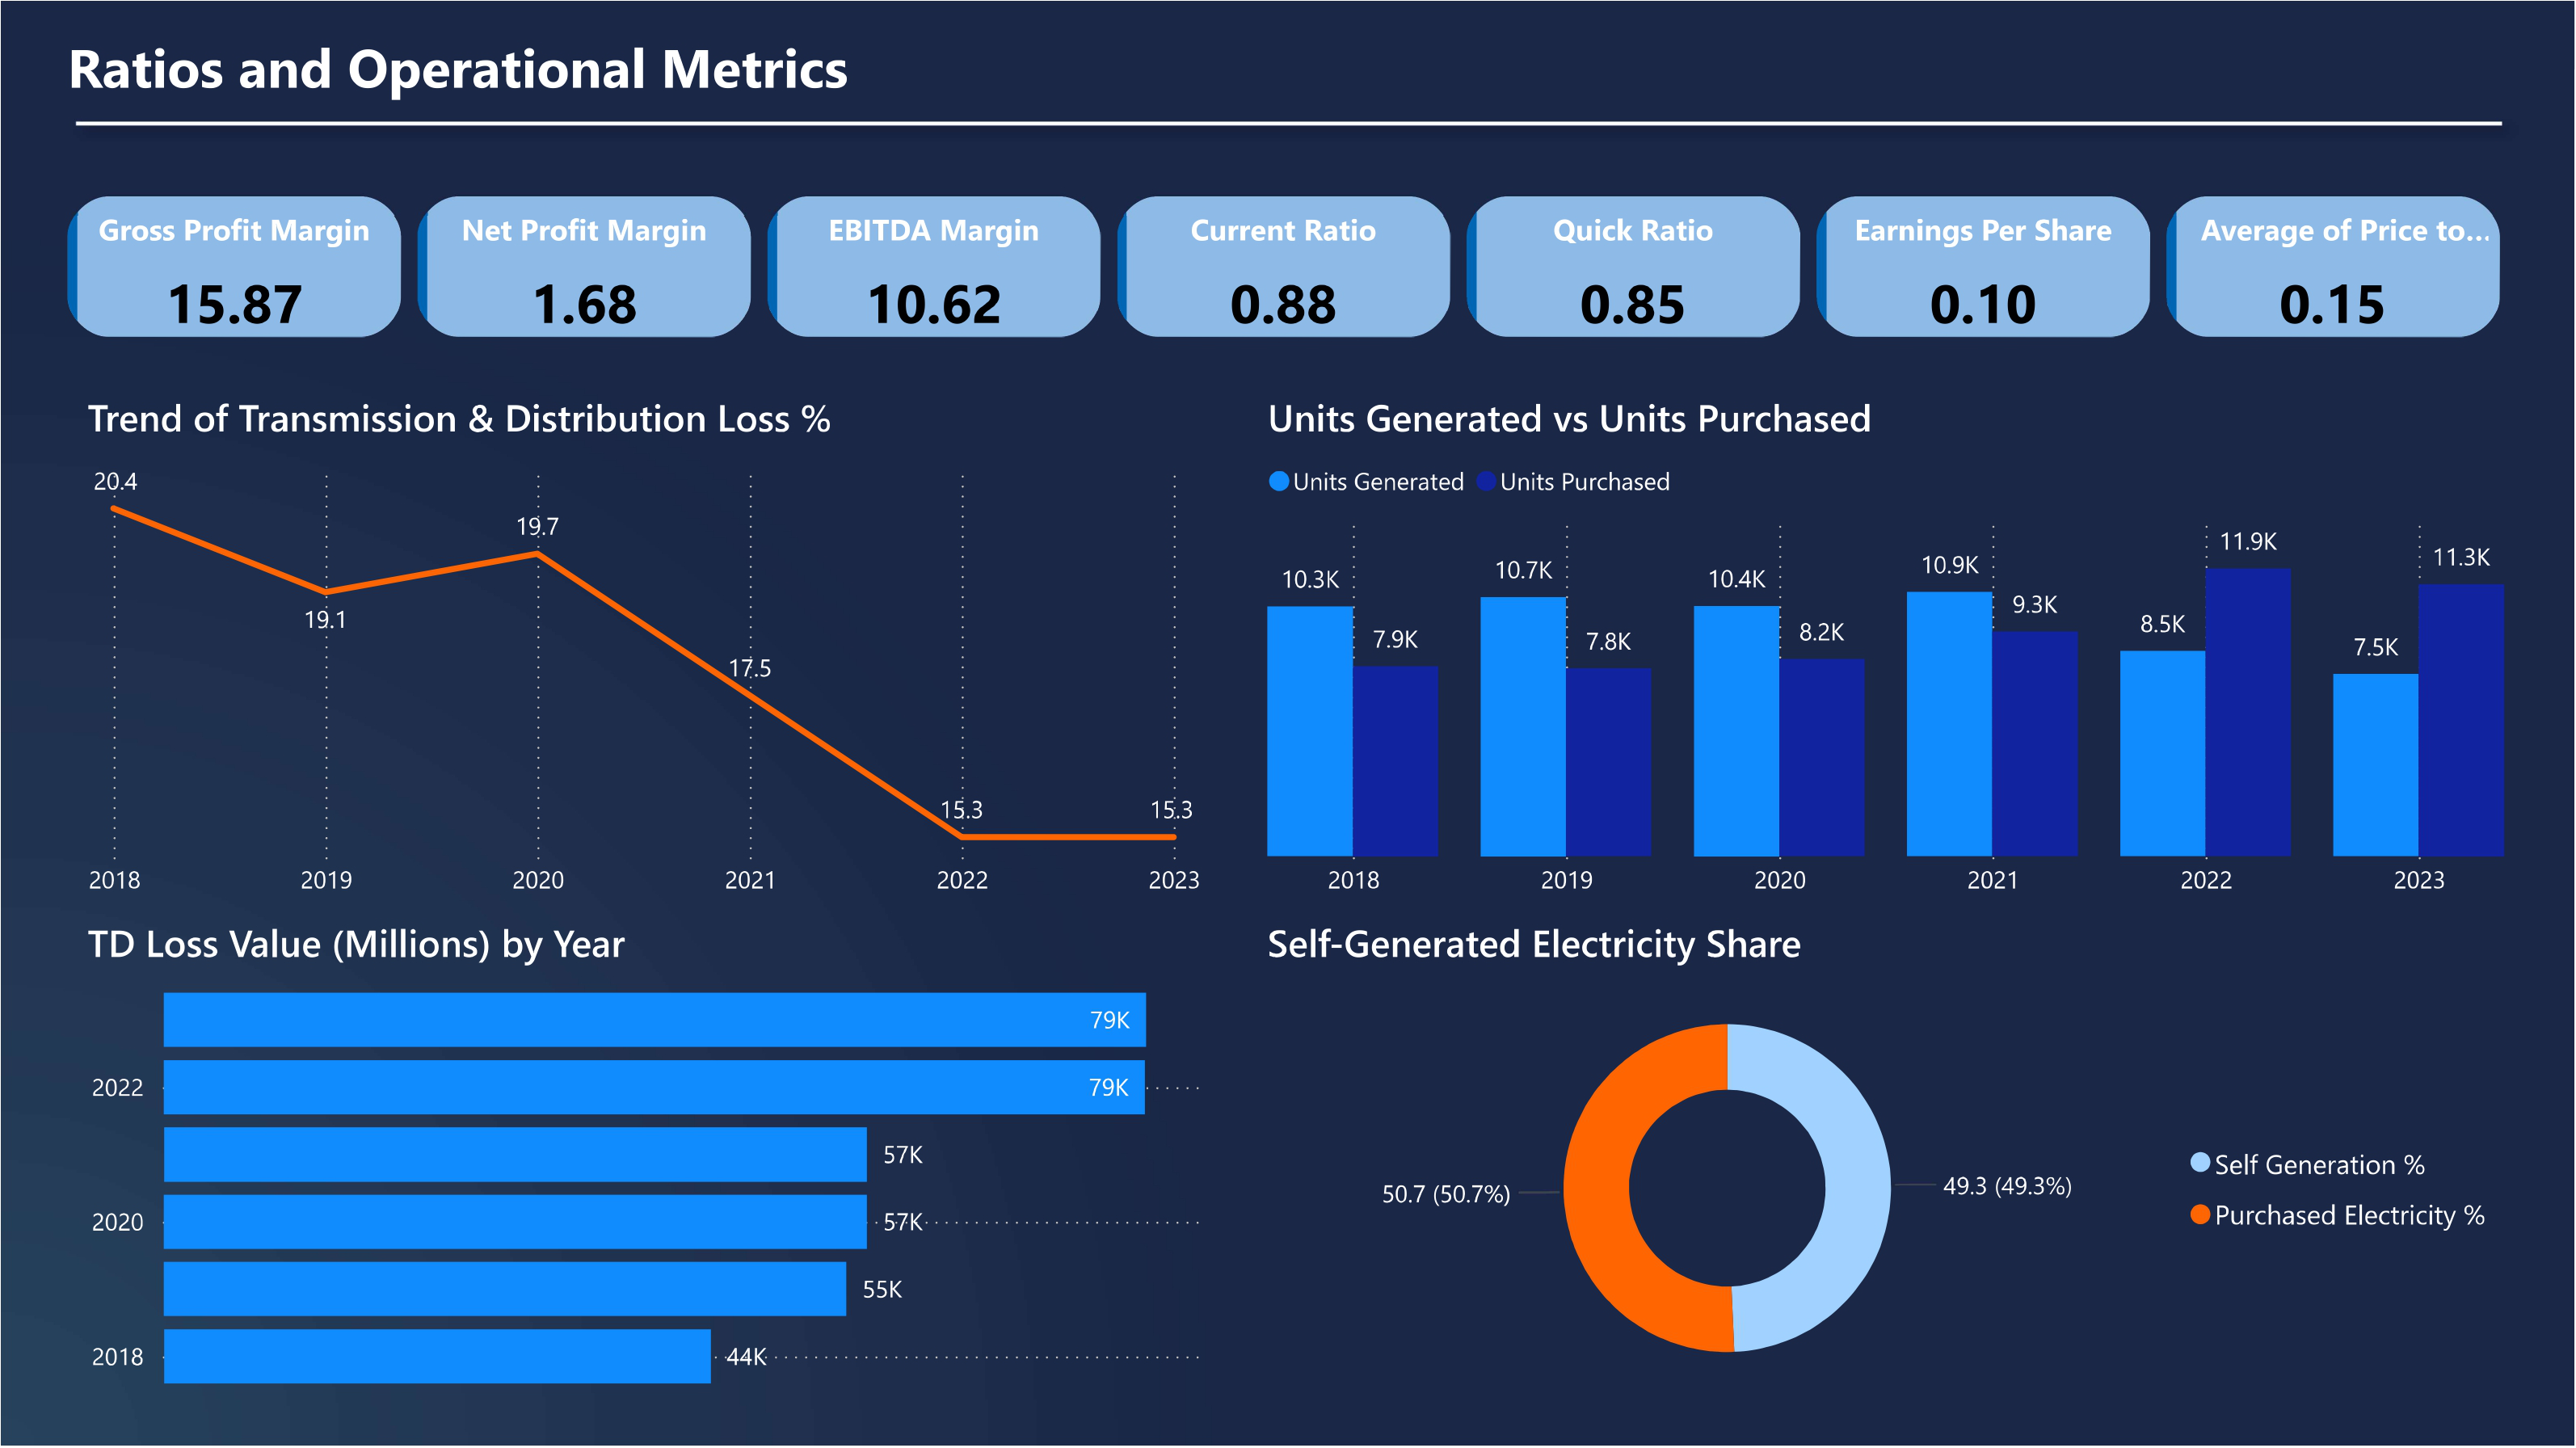

Layout of this report page (visuals, bound fields, positions):
{"tool":"powerbi","page":{"name":"Ratios & Operational Metrics","canvas":[1280,720],"ordinal":4},"visuals":[{"type":"cardVisual","fields":{"Data":["Avg(DataSet.Gross Profit Margin)","Avg(DataSet.Net Profit Margin)","Avg(DataSet.EBITDA Margin)","Avg(DataSet.Current Ratio)","Avg(DataSet.Quick Ratio)","Avg(DataSet.Earnings Per Share)","Avg(DataSet.Price to Book Ratio)"]},"box":[28.1,92.2,1225.4,79.7],"z":0},{"type":"lineChart","title":"Trend of Transmission & Distribution Loss %","fields":{"Y":["Sum(DataSet.TD Loss Percentage)"],"Category":["DataSet.Year ID.Variation.Date Hierarchy.Year"]},"box":[37.5,193.8,564.2,261],"z":1000},{"type":"clusteredColumnChart","title":"Units Generated vs Units Purchased","fields":{"Y":["Sum(DataSet.Units Generated Gross)","Sum(DataSet.Units Purchased)"],"Category":["DataSet.Year ID.Variation.Date Hierarchy.Year"]},"box":[625.2,193.8,625.2,261],"z":2000},{"type":"barChart","fields":{"Y":["Sum(DataSet.TD Loss Value Millions)"],"Category":["DataSet.Year ID.Variation.Date Hierarchy.Year"]},"box":[37.5,454.8,564.2,245.4],"z":3000},{"type":"donutChart","title":"Self-Generated Electricity Share","fields":{"Y":["Avg(DataSet.Self Generation Percentage)","DataSet.PurchasedElectricityPercentage"]},"box":[625.2,454.8,625.2,245.4],"z":4000},{"type":"shape","box":[28,14,1225.4,93.8],"z":5000},{"type":"textbox","box":[28.1,9.4,401.7,50],"z":6000}]}

Visuals, with their boxes in screenshot pixels (x1, y1, x2, y2), scaled from the page's 1280x720 canvas onto the 2576x1448 screenshot:
cardVisual - Avg(DataSet.Gross Profit Margin) x Avg(DataSet.Net Profit Margin): 57/185/2523/346
"Trend of Transmission & Distribution Loss %" lineChart: 75/389/1211/915
"Units Generated vs Units Purchased" clusteredColumnChart: 1258/389/2516/915
barChart - Sum(DataSet.TD Loss Value Millions) x DataSet.Year ID.Variation.Date Hierarchy.Year: 75/915/1211/1408
"Self-Generated Electricity Share" donutChart: 1258/915/2516/1408
shape: 57/28/2523/217
textbox: 57/19/865/120
